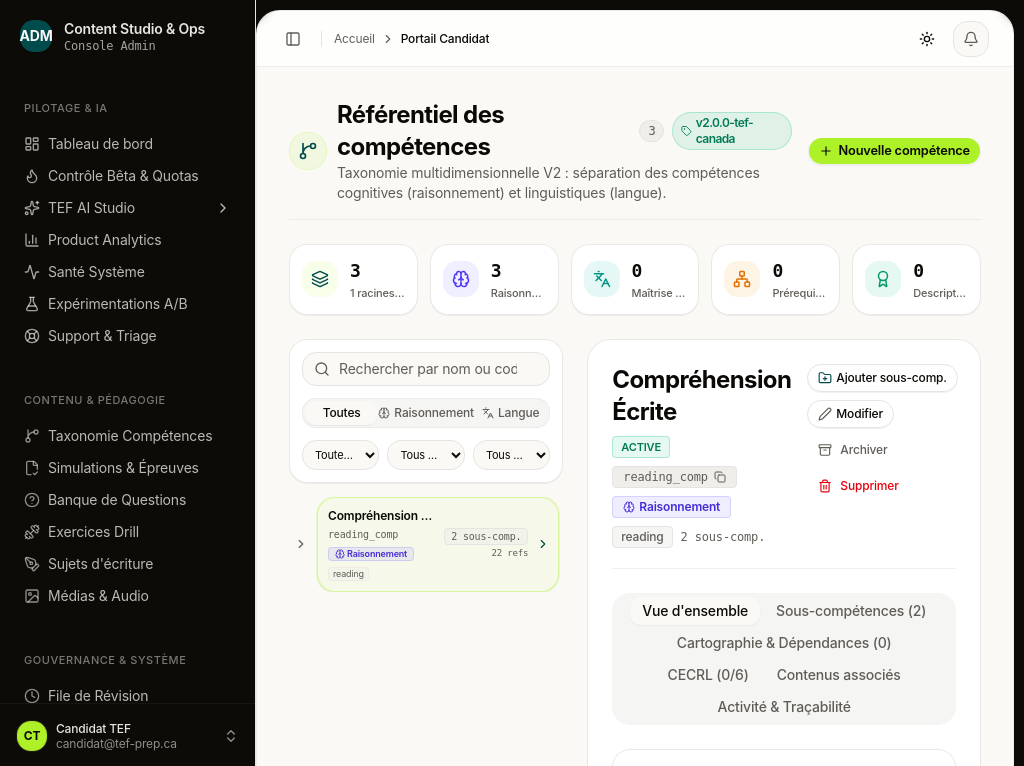
Content Studio Admin UI › renders SkillsManagerPage and lists canonical skills with subskills
This screenshot has width=1024, height=766.
Expected: the heading "Référentiel des compétences 3 v2.0.0-tef-canada" is shown, 337,99 -> 792,163
Press the mouse on the tab "Sous-compétences (2)" at (851, 611), box 764,597 -> 938,625
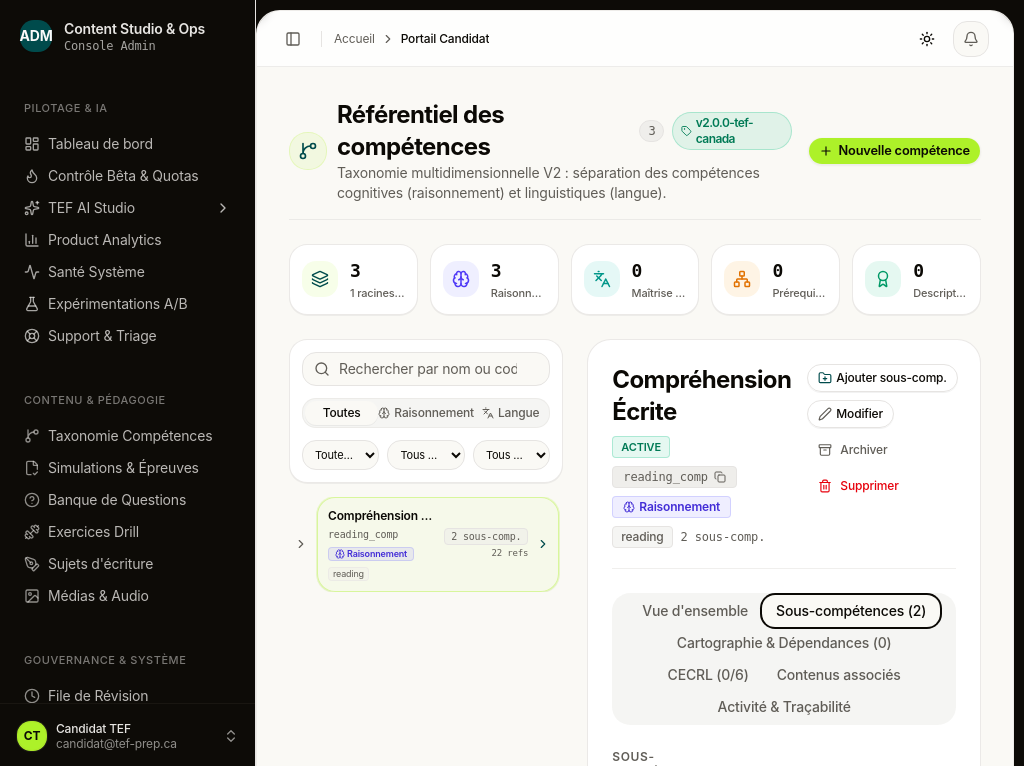
Click the button "Nouvelle compétence" at (894, 151), box 808,137 -> 981,165
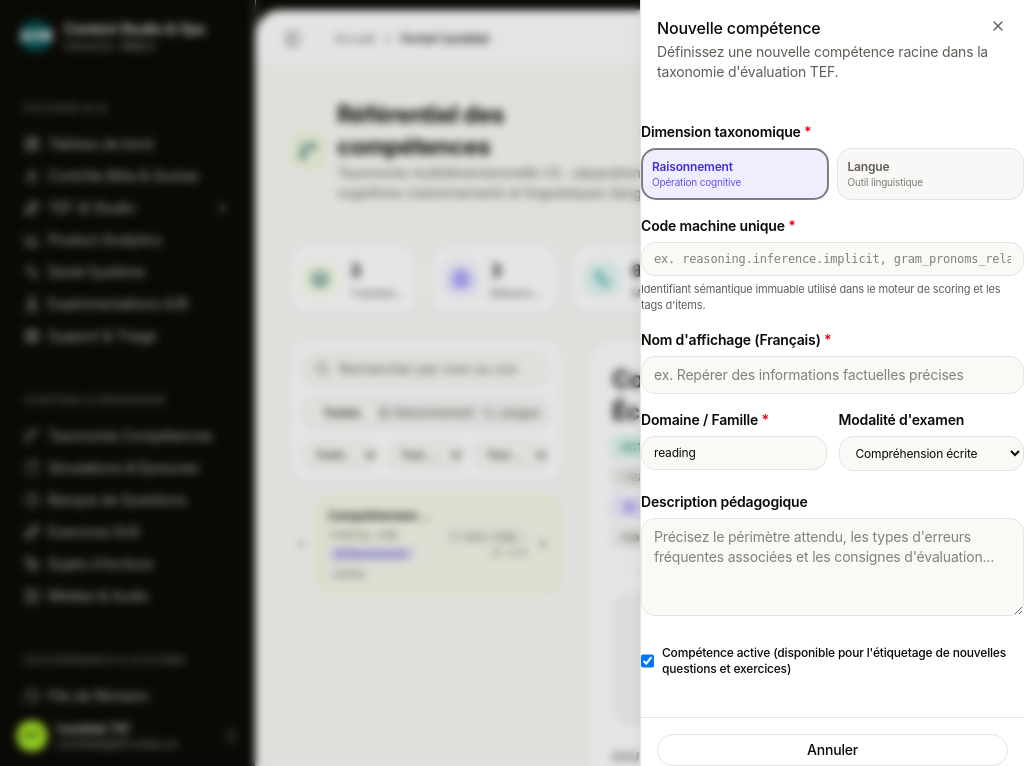
Now the heading "Nouvelle compétence" is shown, box 657,18 -> 820,38
